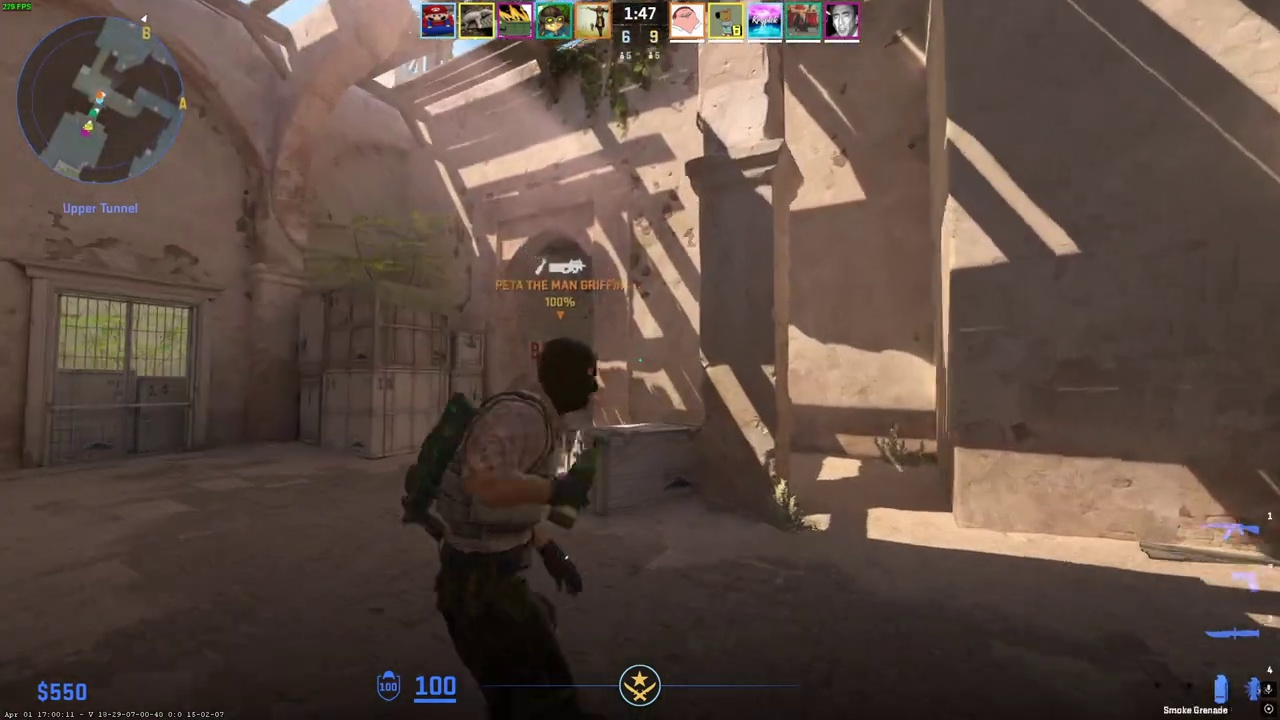Terrorist: (435, 337, 607, 719)
